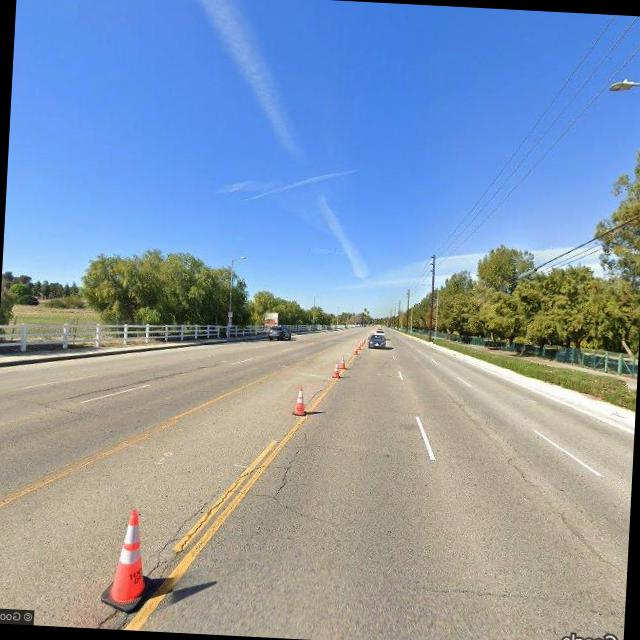crack: (150, 460, 260, 580), (418, 582, 611, 616), (274, 427, 312, 507), (505, 441, 535, 485)
